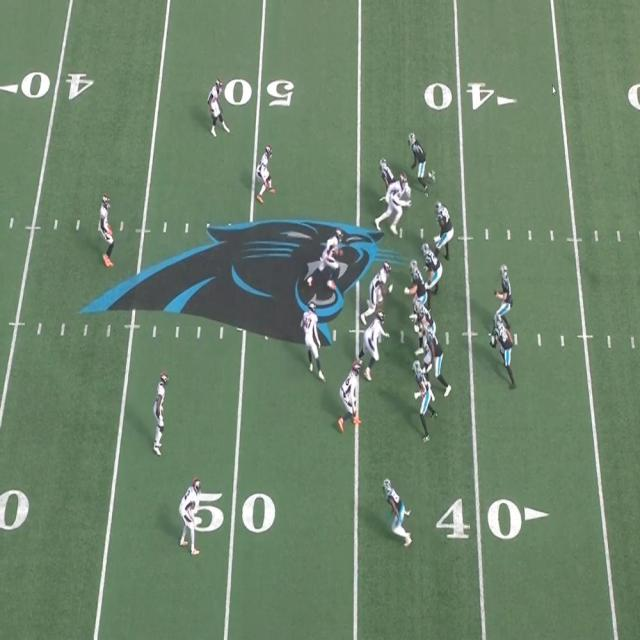db: (178, 478, 202, 548), (154, 369, 167, 451), (210, 82, 229, 137), (255, 145, 273, 202), (102, 193, 116, 265)
lb: (303, 300, 320, 376), (323, 230, 342, 285)
qb: (498, 261, 511, 313)
skill: (385, 479, 409, 541), (412, 363, 433, 425), (410, 133, 432, 189), (495, 311, 509, 378), (380, 158, 402, 195)
